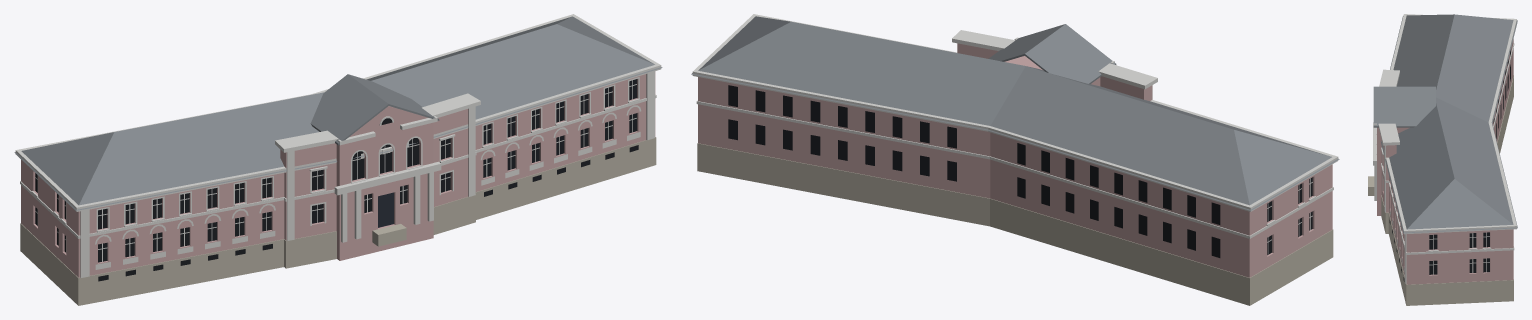
File: SM_PskovGU_Pozemskogo6.glb
3 views of the same model, side by side, from view 1: azimuth 30°, elevation 25°; view 2: azimuth 150°, elevation 25°; view 3: azimuth 270°, elevation 25° (orthographic). The views are drawn at different scales.
Parts seen in each view (by area): view 1: SM_PskovGU_Pozemskogo6; view 2: SM_PskovGU_Pozemskogo6; view 3: SM_PskovGU_Pozemskogo6.
Part boxes in pixels (box(x1,y1,x2,y2)): SM_PskovGU_Pozemskogo6: box(14, 14, 662, 305); SM_PskovGU_Pozemskogo6: box(691, 14, 1339, 305); SM_PskovGU_Pozemskogo6: box(1368, 14, 1517, 305).
Bounding box in the file's own units: 57.59 × 13.8 × 16.75.
